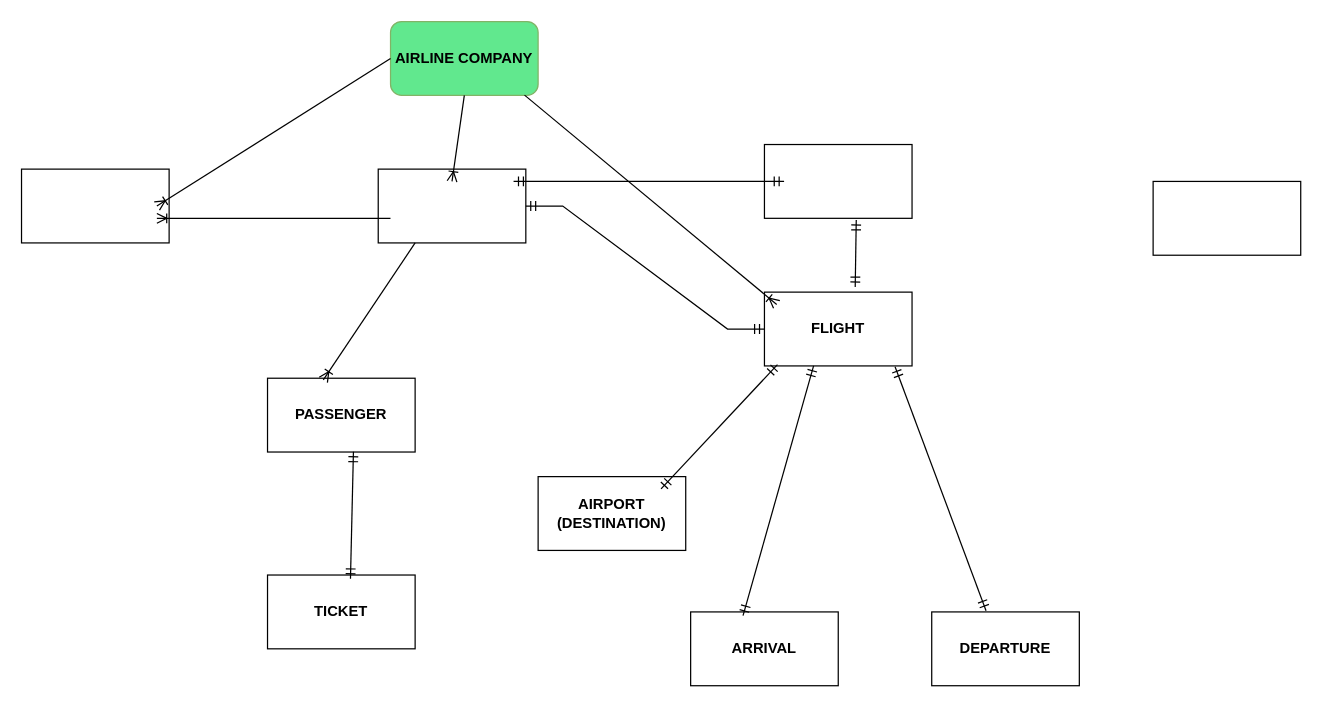
Image size: 1322x707. Some labels were removed from this diagram. Each missing label, with the box of its shape:
AIRCARFT: (377, 168, 526, 243)
CREW: (20, 168, 169, 243)
DESTINATION: (1152, 180, 1301, 255)
ROUTE: (763, 143, 912, 218)
